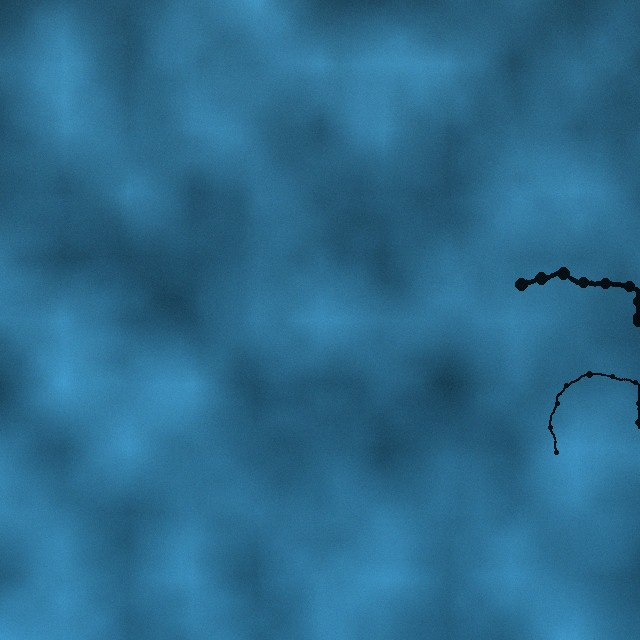crack: (546, 369, 639, 456), (514, 265, 639, 329)
